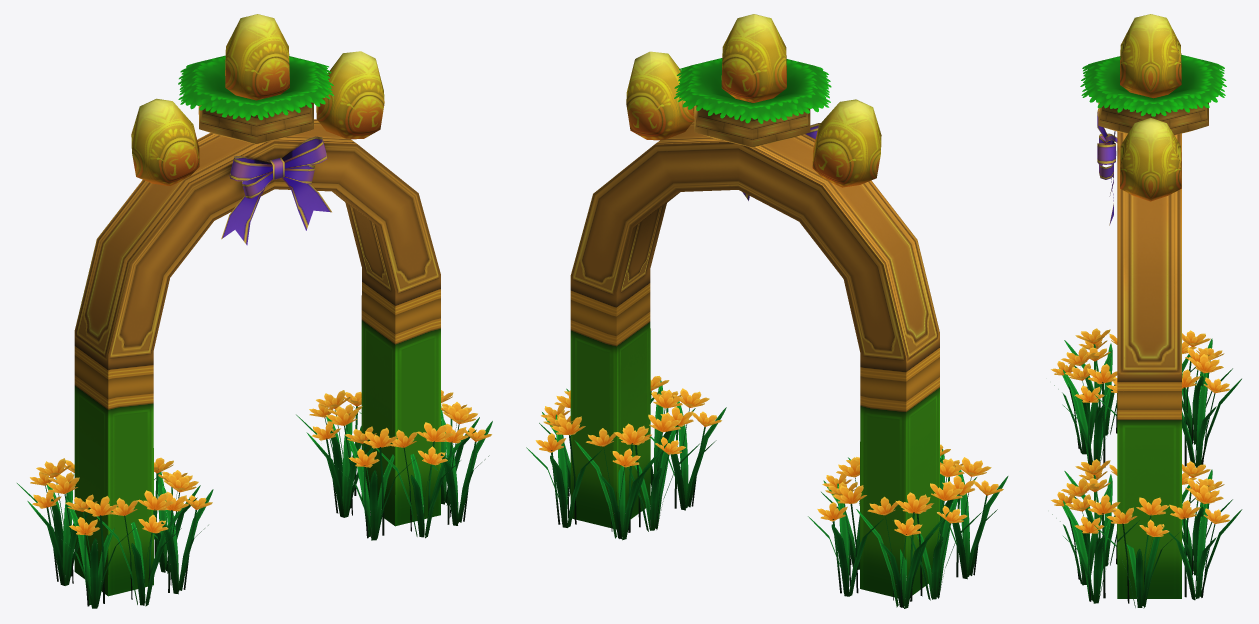
The model's file is Easter_Gate.FBX.
3 views of the same model, side by side, from view 1: azimuth 30°, elevation 25°; view 2: azimuth 150°, elevation 25°; view 3: azimuth 270°, elevation 25° (orthographic). The views are drawn at different scales.
Visible parts, largest first — view 1: Easter_Gate; view 2: Easter_Gate; view 3: Easter_Gate.
Boxes of the visible parts, box(x1,y1,x2,y2) form: Easter_Gate: box(17, 14, 492, 608); Easter_Gate: box(526, 14, 1008, 608); Easter_Gate: box(1051, 14, 1242, 608).
Size of the model in its own units: 271 by 309 by 113.
